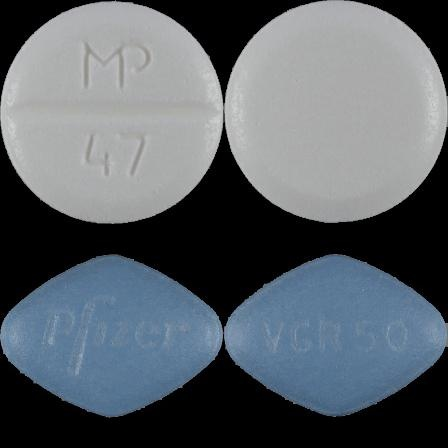63629-2638: (0, 0, 224, 224)
